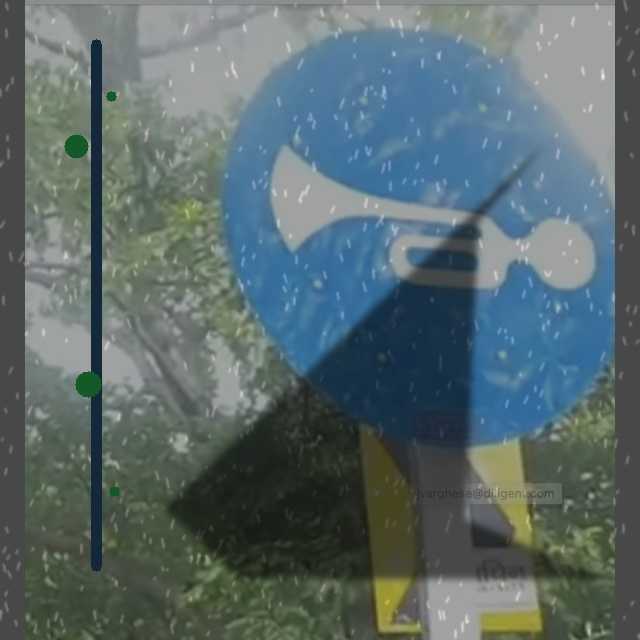Compulsory_Sound_Horn: (235, 74, 604, 398)
